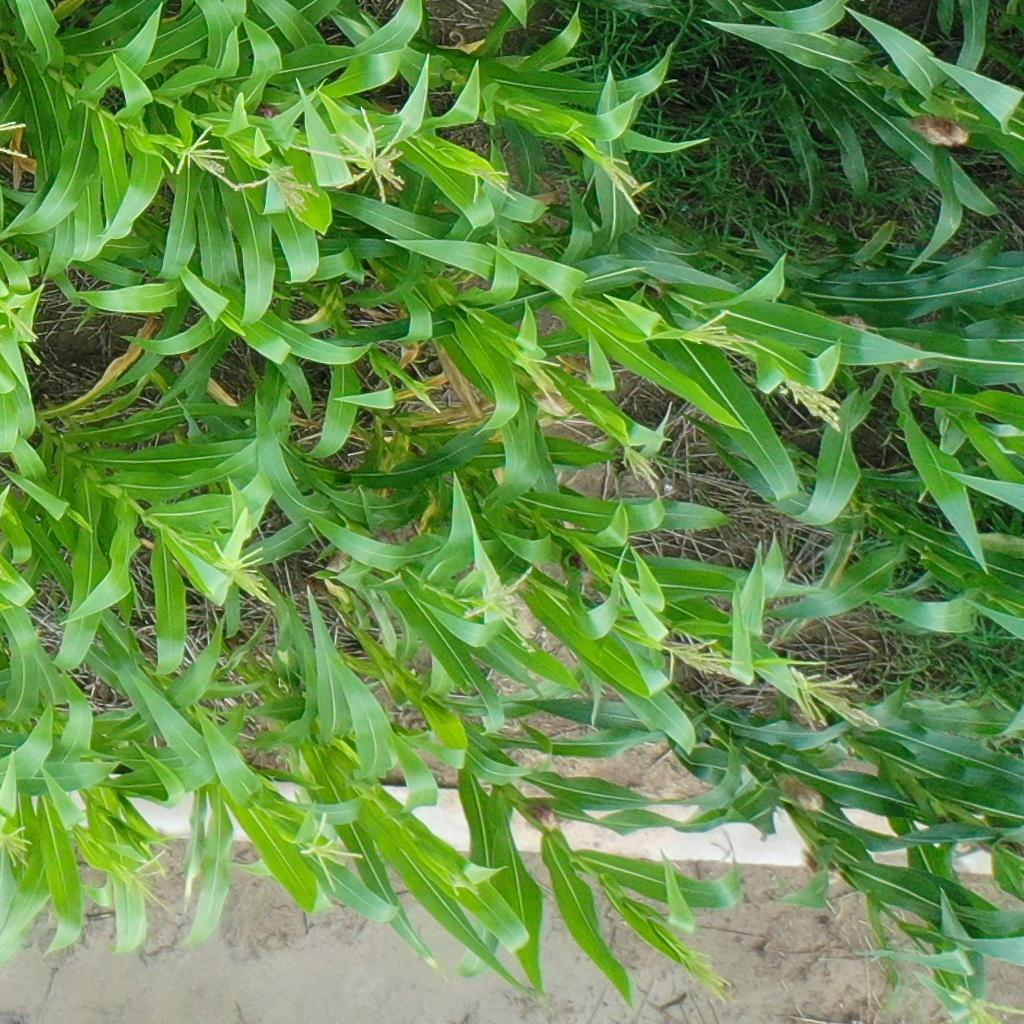Tassel: (288, 104, 418, 207), (453, 561, 547, 641), (788, 659, 878, 735), (295, 810, 368, 893), (236, 155, 326, 220), (208, 537, 274, 609), (111, 846, 177, 917), (659, 634, 745, 687), (675, 306, 759, 358), (172, 125, 238, 191), (671, 938, 736, 1001), (780, 373, 845, 435), (460, 157, 522, 205), (949, 985, 1024, 1024), (519, 348, 565, 411), (601, 153, 647, 215), (619, 443, 667, 494), (1, 290, 42, 345), (1, 116, 35, 162), (1, 825, 36, 869)
